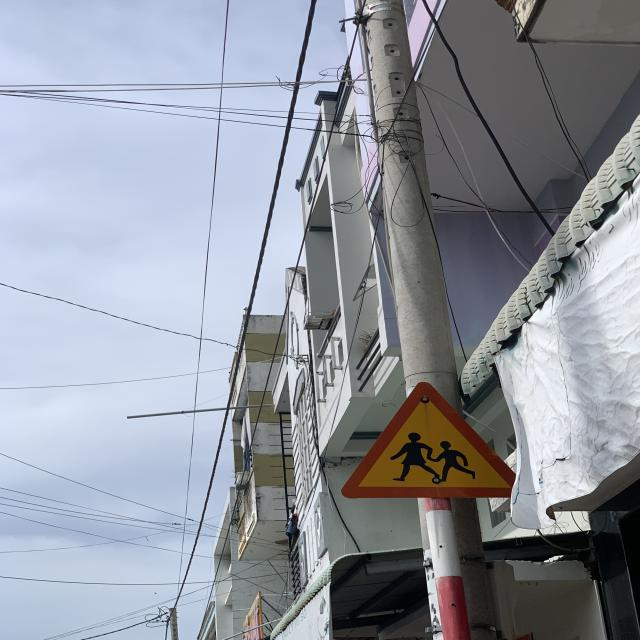Vong_Xuyen: (341, 382, 514, 497)
